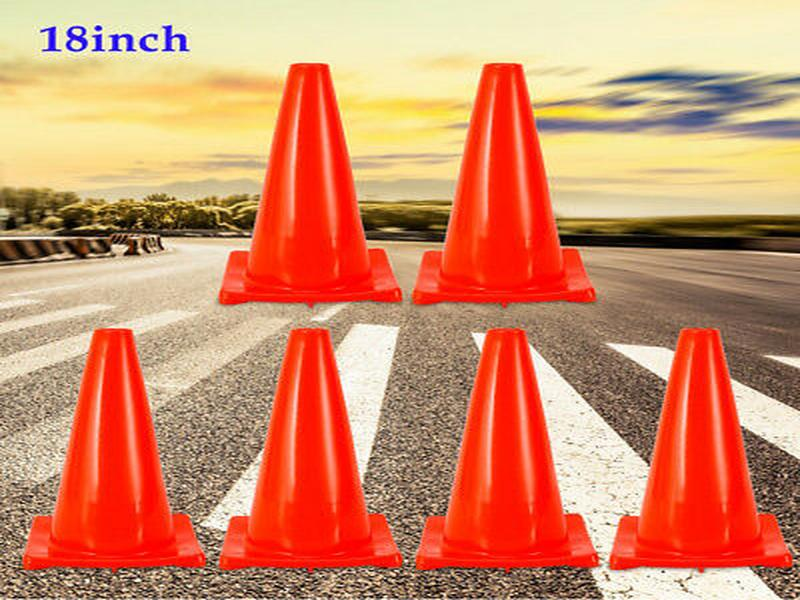Cone1: (409, 63, 598, 303), (414, 327, 601, 569), (22, 327, 208, 568), (608, 327, 793, 569), (219, 328, 403, 568), (219, 63, 402, 303)
